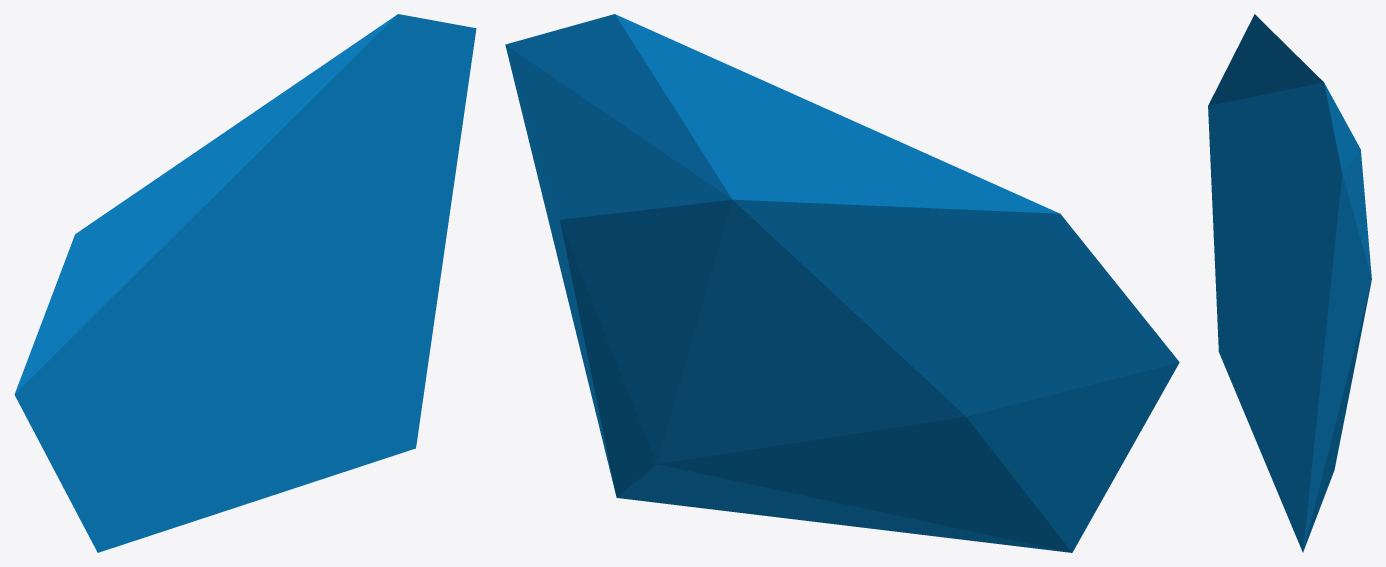
Rendered from arm-L4_convex_piece_023.obj.
3 views of the same model, side by side, from view 1: azimuth 30°, elevation 25°; view 2: azimuth 150°, elevation 25°; view 3: azimuth 270°, elevation 25° (orthographic). The views are drawn at different scales.
Size of the model in its own units: 0.0487 by 0.0382 by 0.0122.
